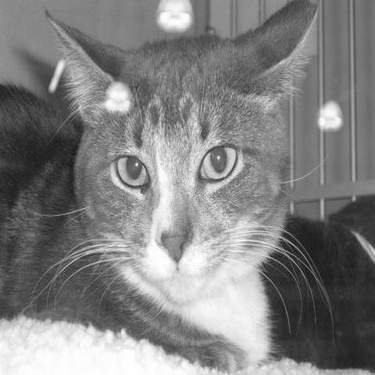cat: (2, 1, 335, 369)
